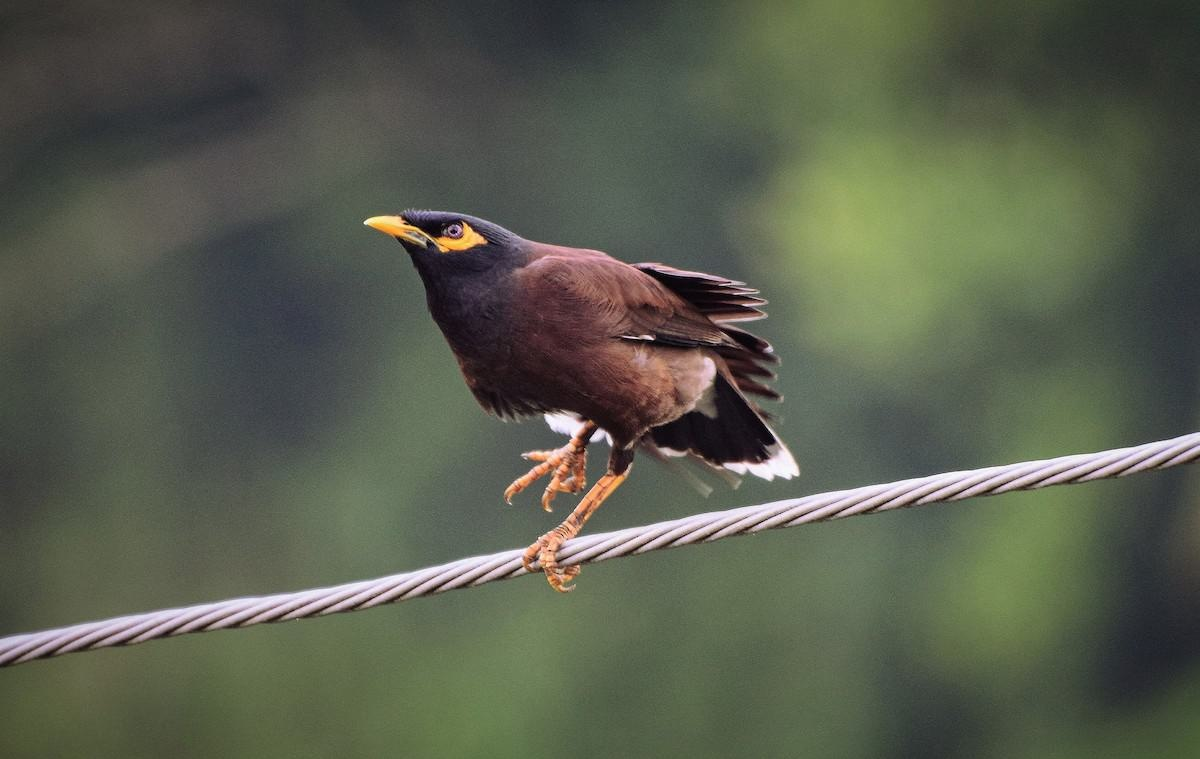myna: (353, 171, 947, 592)
